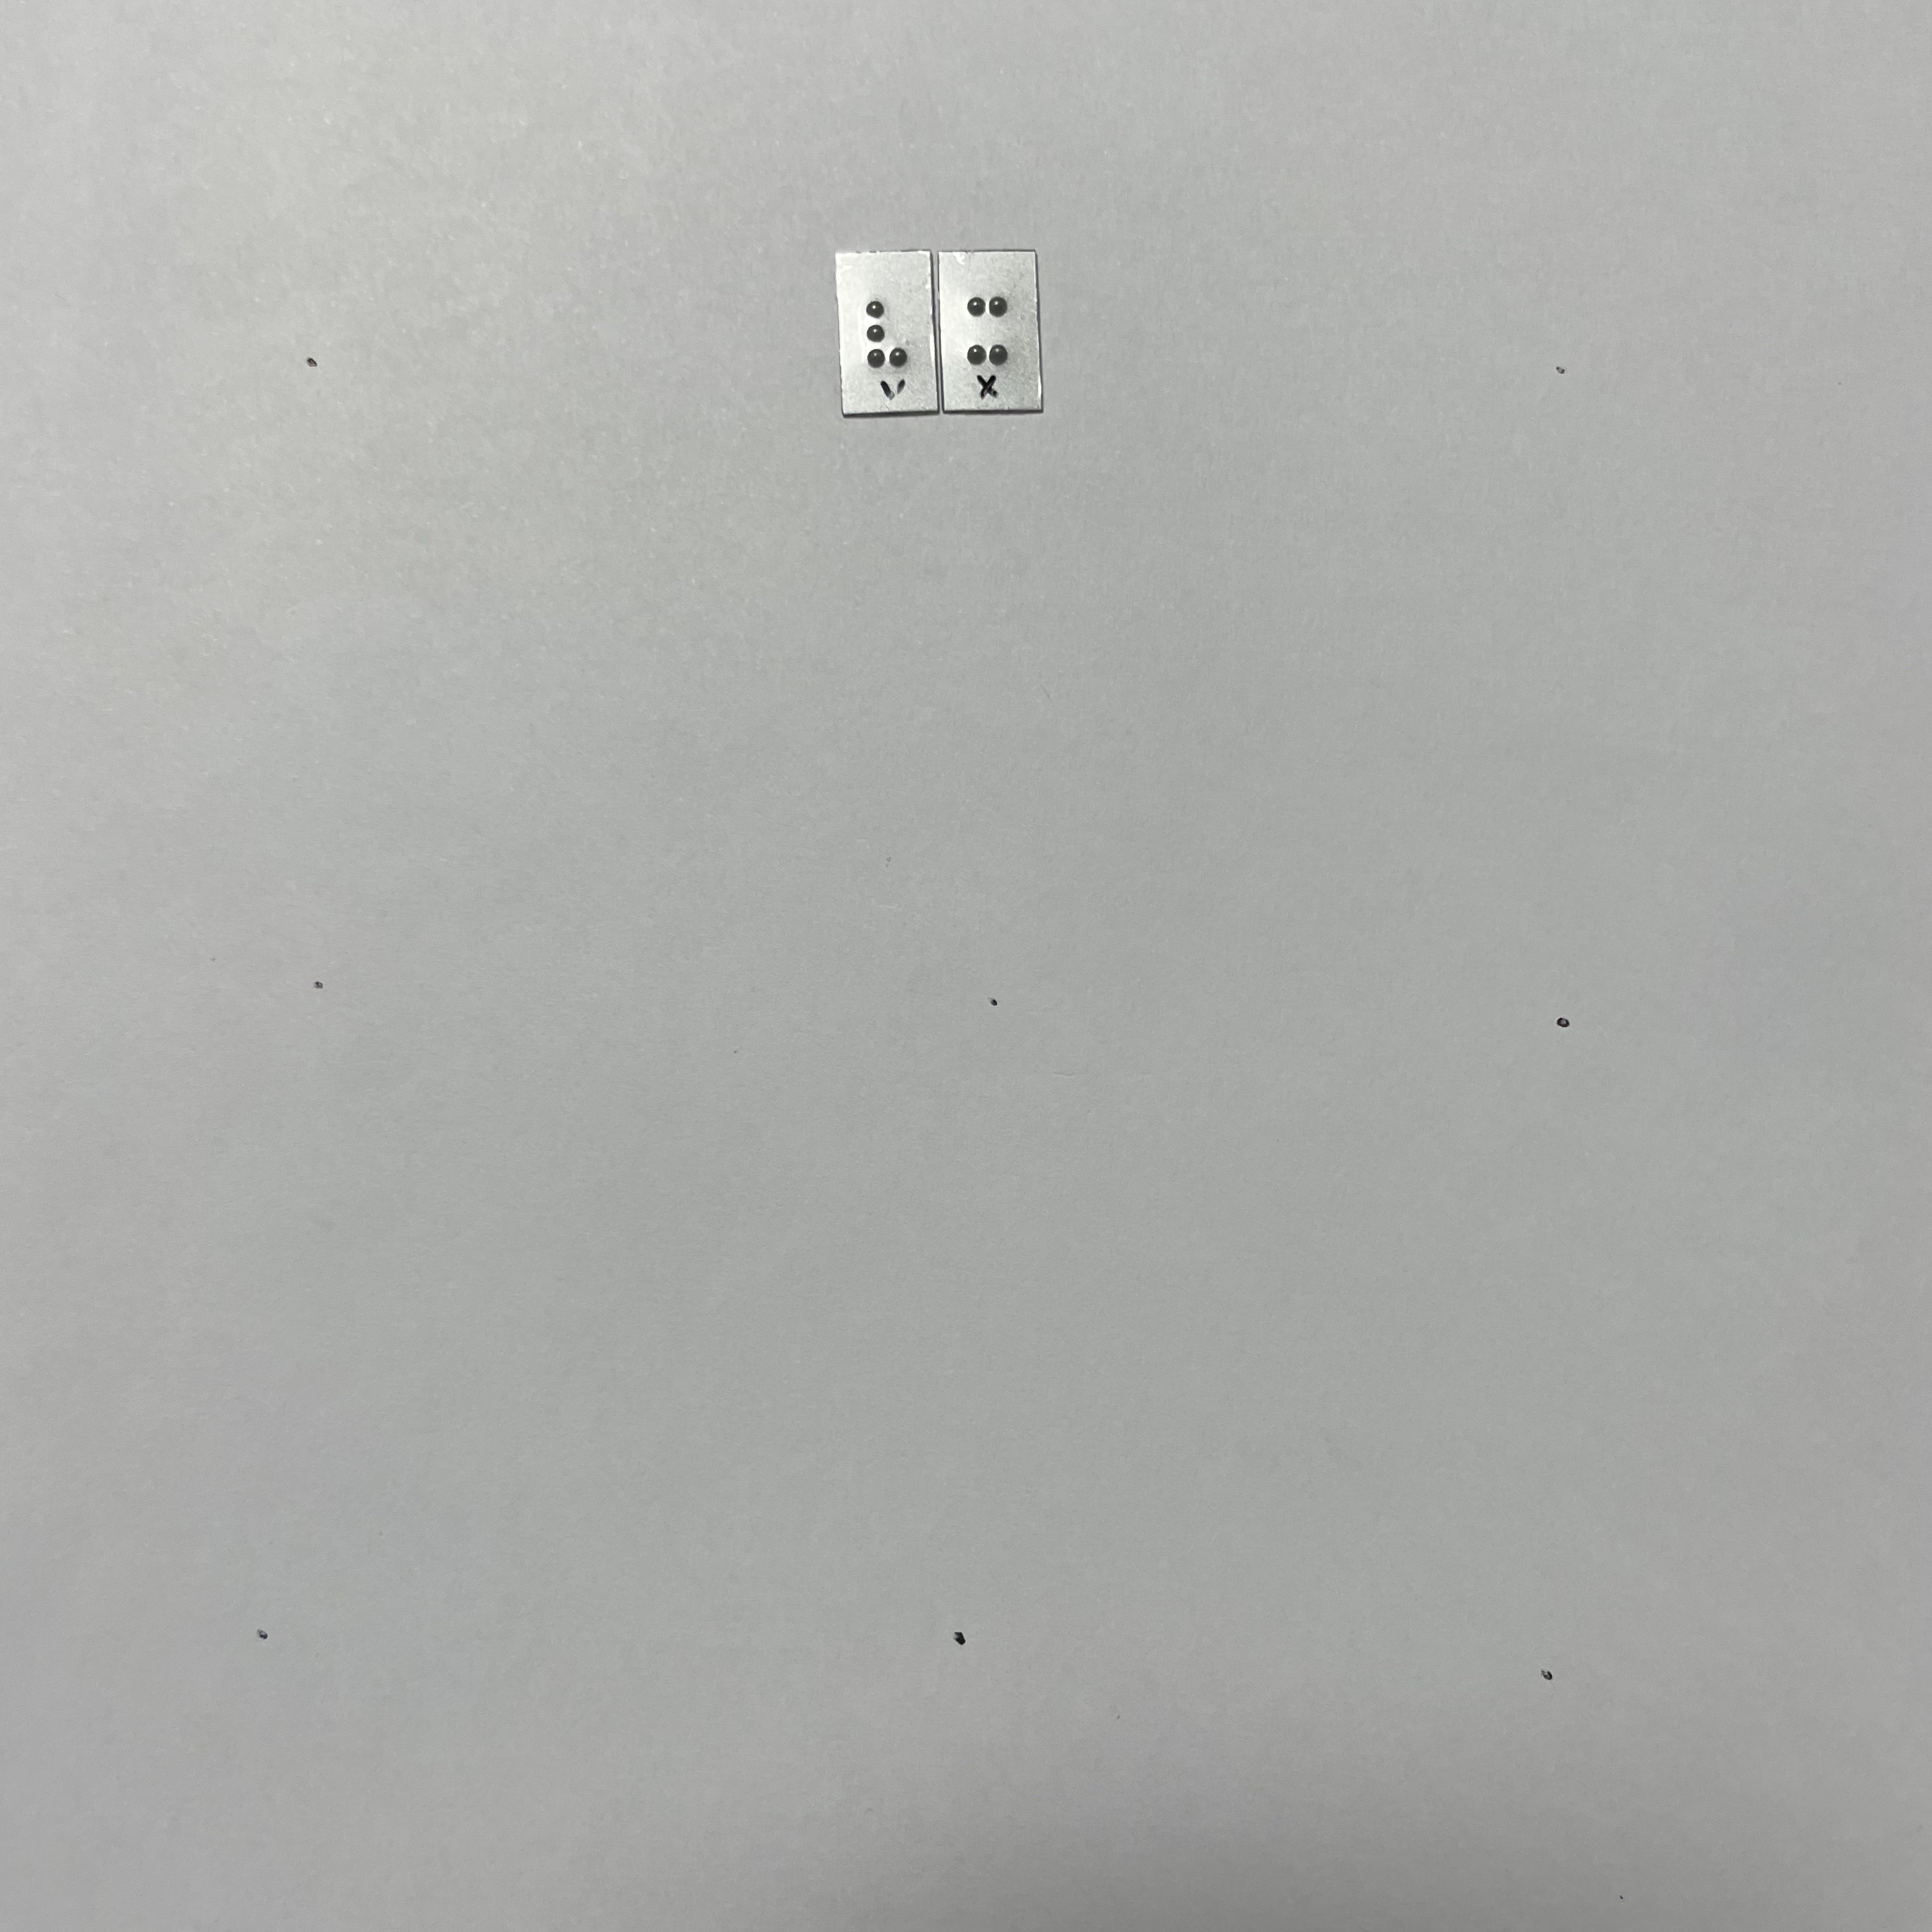v: (853, 291, 912, 372)
x: (959, 291, 1020, 368)
